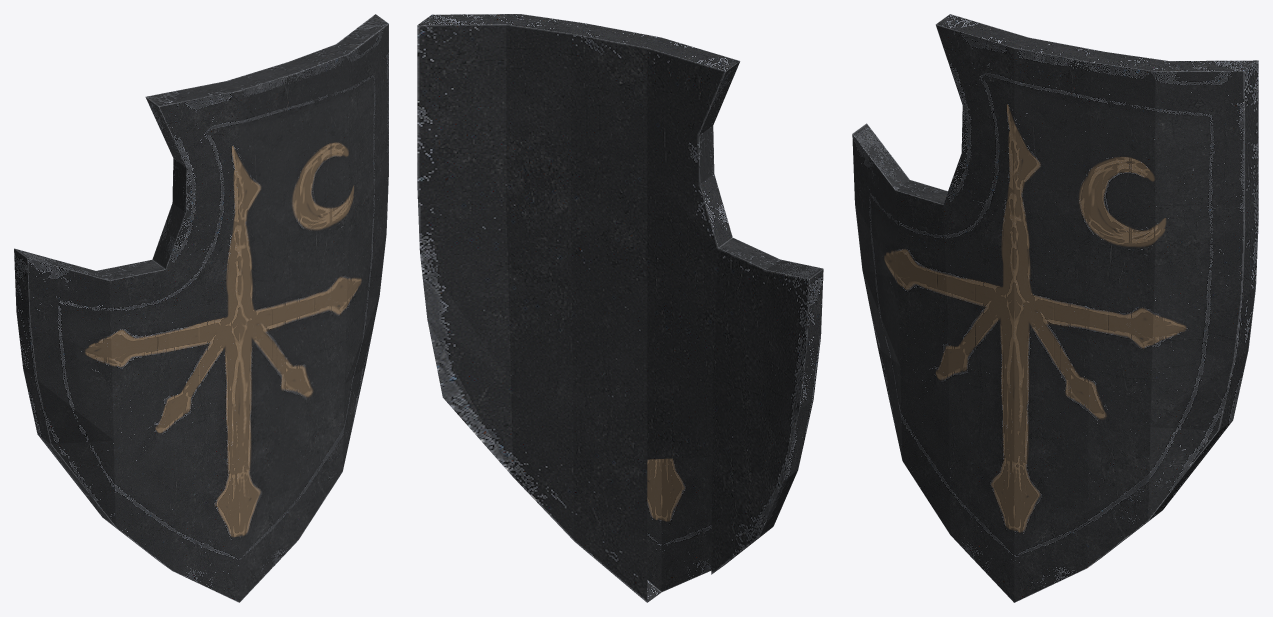
Rendered from Black Shield.fbx.
3 views of the same model, side by side, from view 1: azimuth 30°, elevation 25°; view 2: azimuth 150°, elevation 25°; view 3: azimuth 330°, elevation 25° (orthographic). The views are drawn at different scales.
Visible parts, largest first — view 1: Black_Shield; view 2: Black_Shield; view 3: Black_Shield.
Part boxes in pixels (x1,y1,x2,y2): Black_Shield: (14,14,388,602); Black_Shield: (417,14,823,602); Black_Shield: (852,14,1258,602).
Bounding box in the file's own units: 118 × 160 × 25.3.
